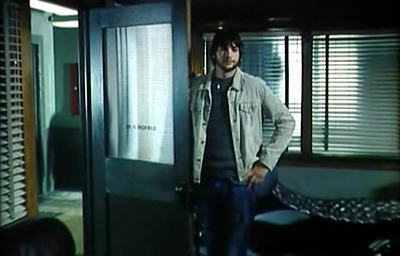face: (217, 42, 239, 71)
mls: (1, 1, 400, 256)
person: (191, 30, 296, 256)
